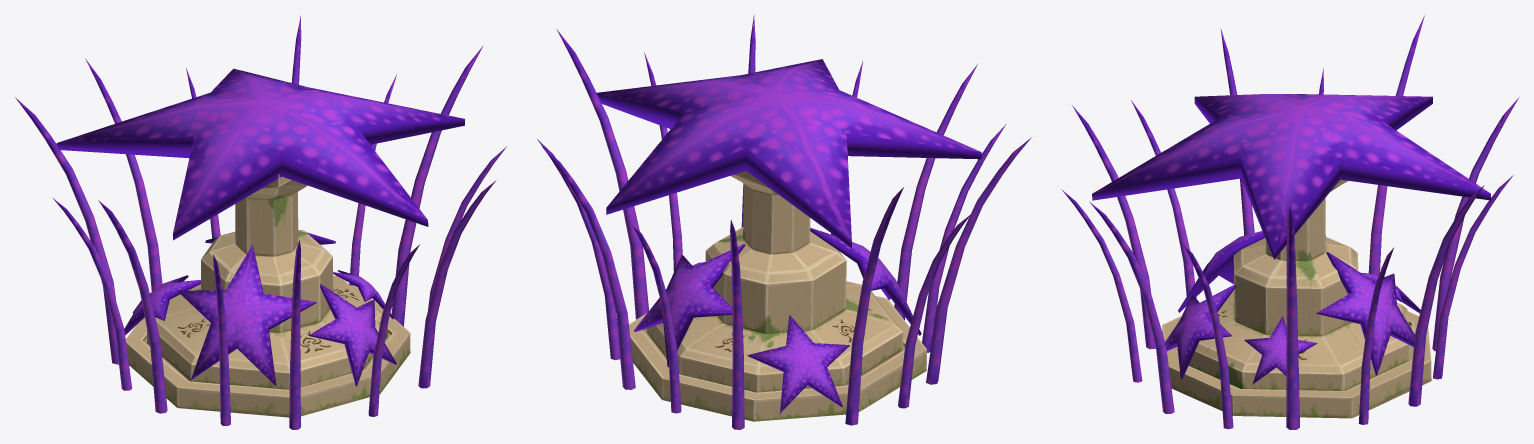
The model's file is starfishTower_edit_for_FBX.fbx.
3 views of the same model, side by side, from view 1: azimuth 30°, elevation 25°; view 2: azimuth 150°, elevation 25°; view 3: azimuth 270°, elevation 25° (orthographic). The views are drawn at different scales.
Parts seen in each view (by area): view 1: starfishTower; view 2: starfishTower; view 3: starfishTower.
Part boxes in pixels (x1=…): starfishTower: x1=15, y1=15, x2=506, y2=429; starfishTower: x1=537, y1=14, x2=1031, y2=429; starfishTower: x1=1061, y1=15, x2=1519, y2=429.
Size of the model in its own units: 7938 by 4853 by 7543.
